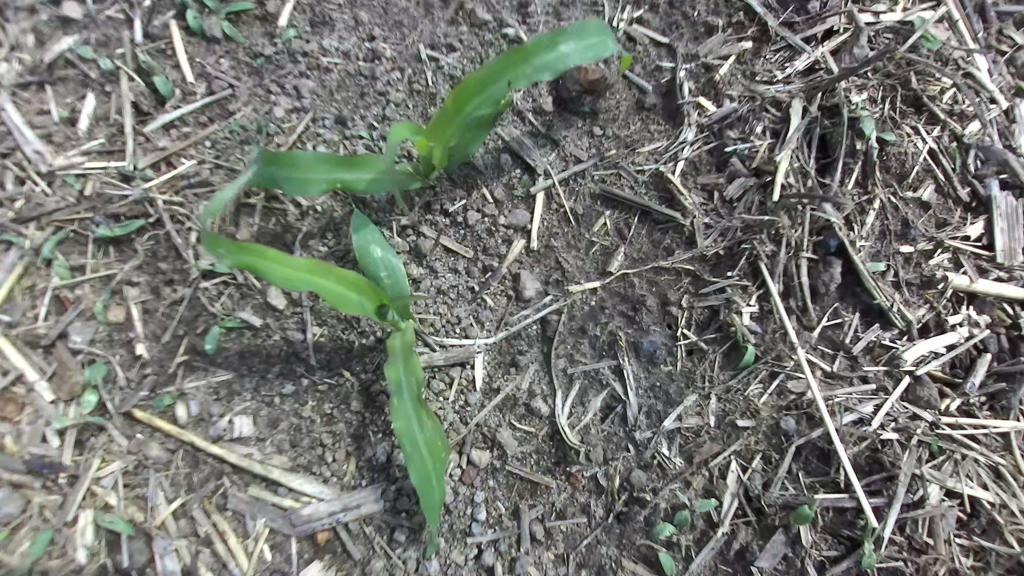BroWeed: (84, 471, 137, 546), (130, 40, 178, 103), (194, 306, 249, 359), (70, 33, 122, 84), (632, 529, 687, 576), (75, 353, 111, 418), (645, 515, 697, 558), (14, 522, 55, 576), (39, 227, 74, 282), (905, 11, 945, 57), (126, 431, 175, 468), (788, 481, 825, 529), (670, 488, 720, 516), (165, 393, 201, 431), (91, 216, 145, 241), (49, 411, 109, 430), (144, 387, 184, 415), (122, 237, 150, 276), (852, 107, 880, 144), (177, 254, 210, 285), (110, 263, 152, 287), (215, 16, 248, 46), (201, 0, 256, 17), (860, 514, 876, 571), (104, 292, 130, 327), (668, 506, 698, 535), (340, 452, 361, 493), (704, 473, 733, 502), (312, 126, 343, 152), (94, 283, 112, 323), (40, 423, 64, 450), (111, 281, 141, 302), (272, 25, 301, 46), (219, 118, 244, 142), (991, 308, 1013, 335), (686, 472, 706, 501), (0, 431, 21, 457), (877, 126, 903, 147), (60, 172, 87, 192), (947, 139, 961, 174), (204, 260, 233, 276), (22, 219, 36, 252), (0, 230, 27, 247), (369, 128, 387, 153), (119, 167, 156, 179), (981, 175, 1003, 193), (668, 542, 685, 564), (785, 508, 799, 534), (86, 30, 100, 54), (344, 128, 371, 139), (865, 261, 889, 273), (982, 372, 997, 389), (929, 435, 940, 458), (54, 398, 67, 417), (253, 116, 266, 135), (848, 101, 866, 114), (253, 54, 268, 69), (127, 176, 144, 188), (104, 365, 115, 383), (471, 520, 482, 535), (159, 158, 169, 174), (0, 527, 11, 541), (228, 12, 239, 23), (114, 45, 126, 54), (1015, 79, 1024, 91)
Maize: (170, 138, 565, 561), (181, 7, 656, 281)
